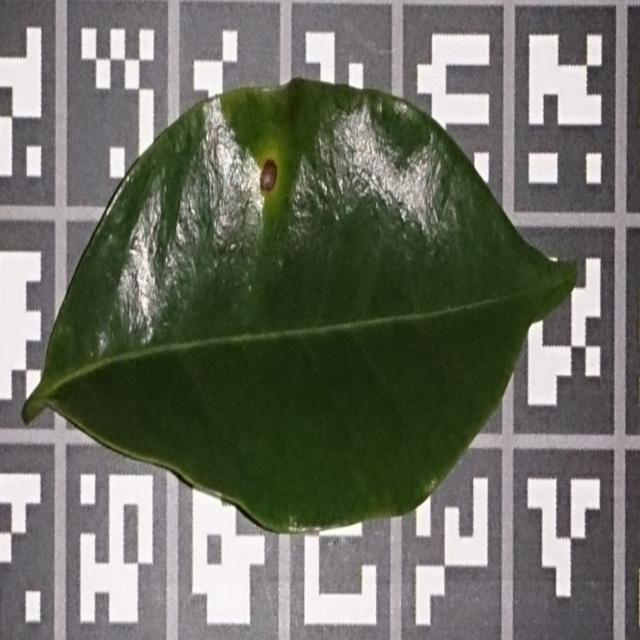Enfermedad-Mancha-de-hierro: (21, 79, 581, 538)
